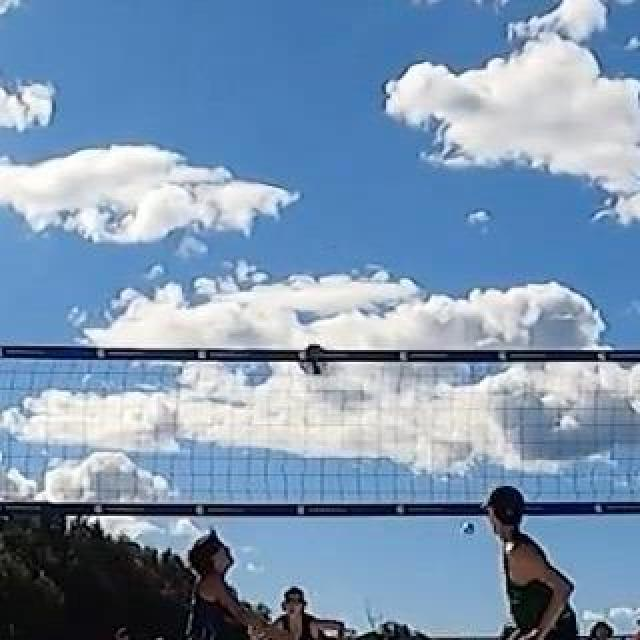volleyball: (299, 343, 329, 377), (462, 522, 474, 534)
